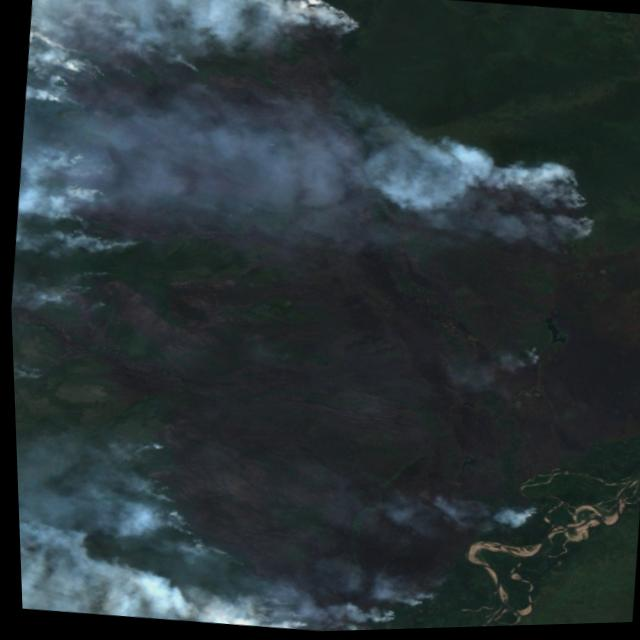fire: (6, 0, 372, 275), (111, 513, 456, 638), (440, 140, 602, 237), (10, 258, 124, 392)
